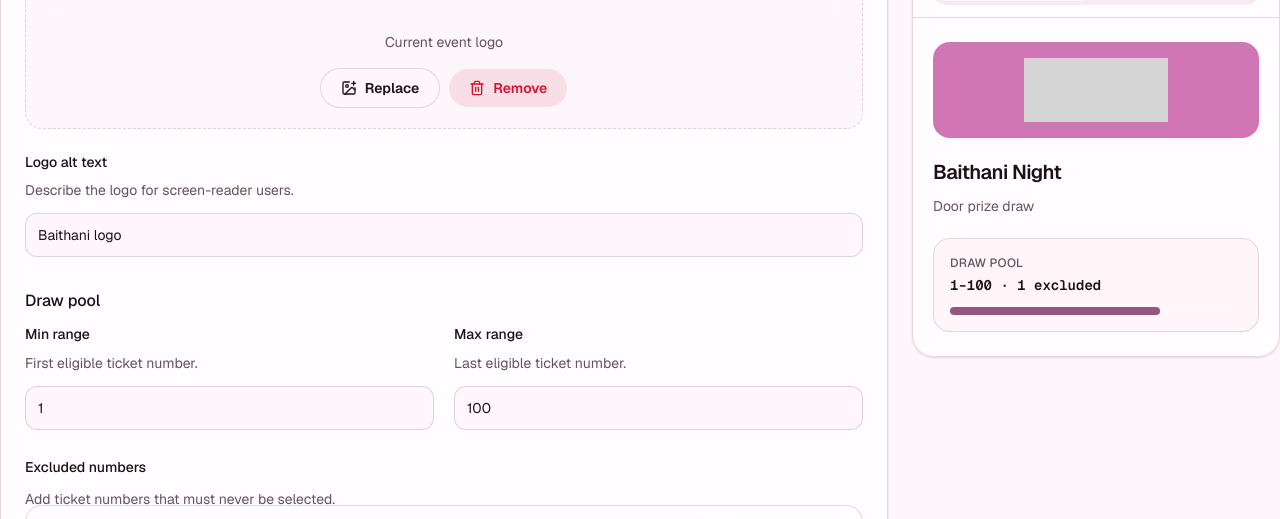
Test: SettingsForm logo controls › shows alt text only while a logo is visible
(page scrolled)
Clear the field labelled "Logo alt text" at x=444, y=235, box [25,213,863,257]
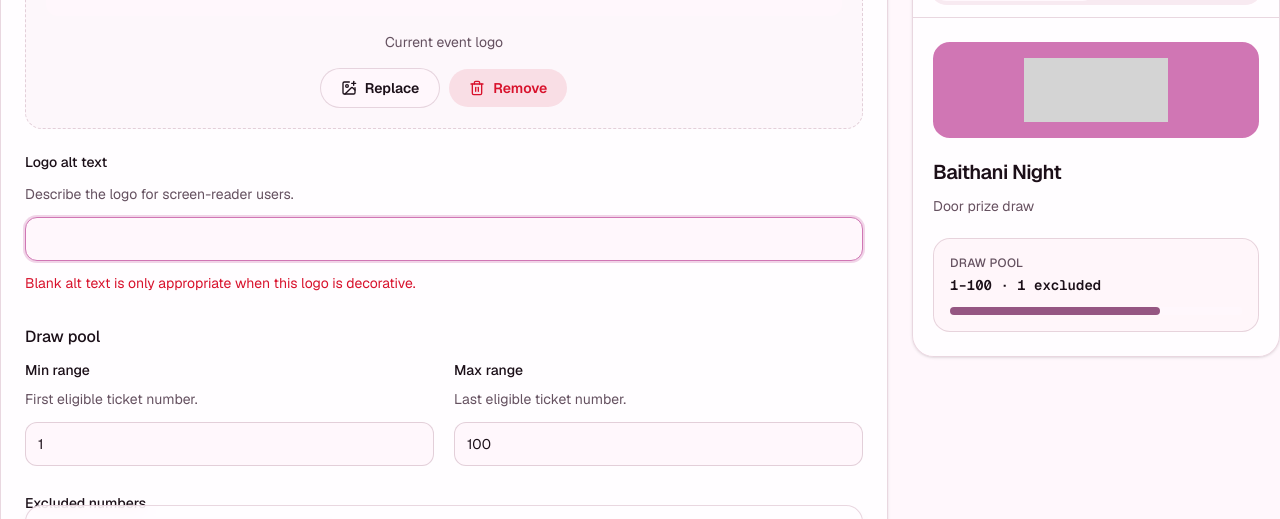
Now the text "Blank alt text is only appropriate when this logo is decorative." is shown, box [25,274,416,292]
Click the button "Remove".
click(508, 88)  # box [448,68,568,108]
(page scrolled)
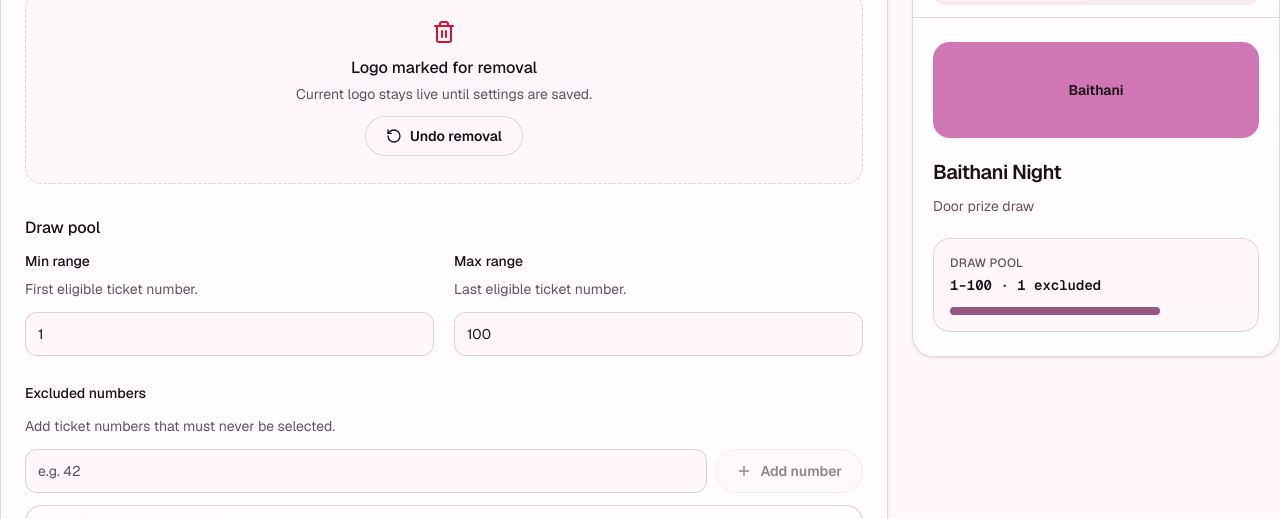
Now the label labelled "Logo alt text" is gone
Now the text "Logo marked for removal" is shown, box [351,57,537,78]
Click the button "Undo removal".
click(444, 136)  # box [365,116,523,156]
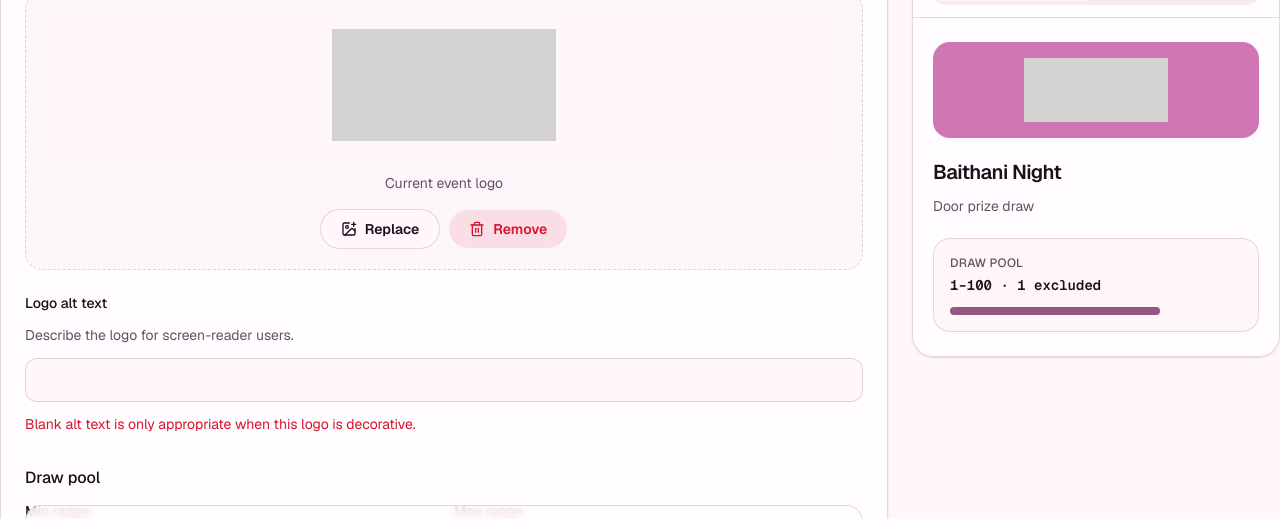
Now the field labelled "Logo alt text" is shown, box [25,358,863,402]
